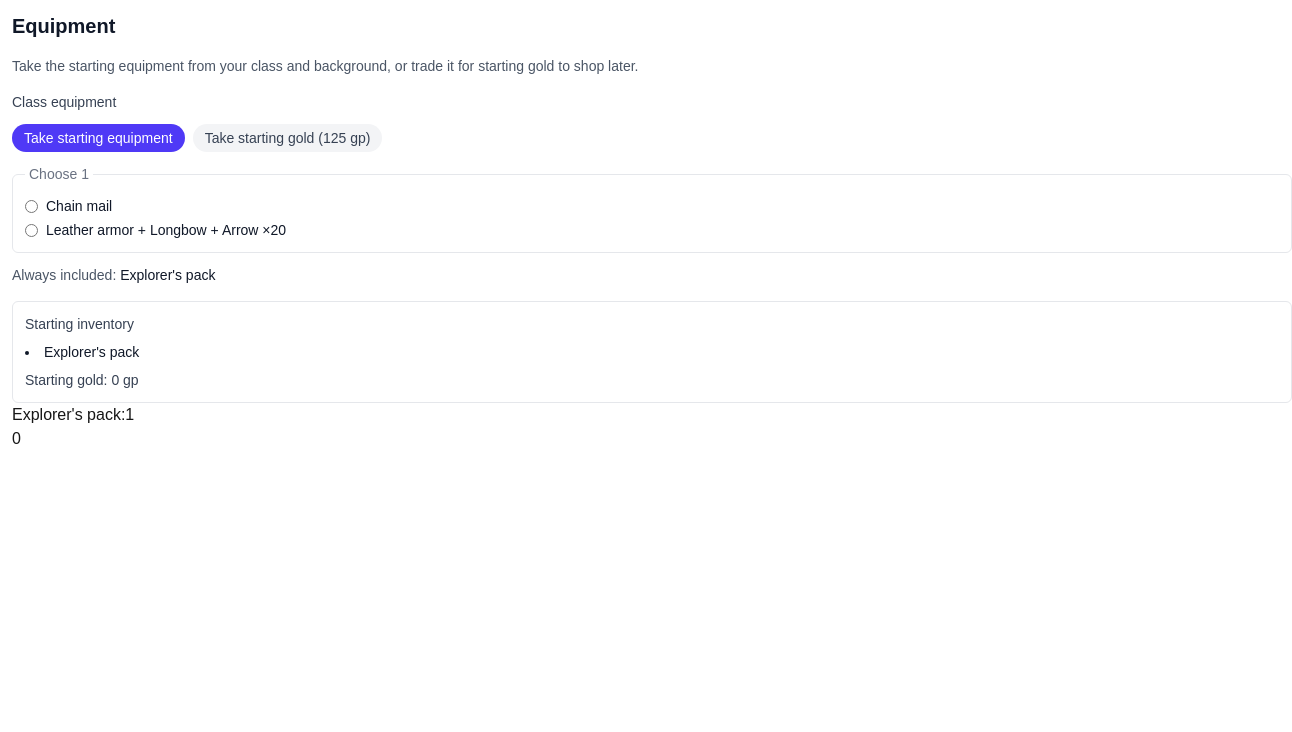
it: EquipmentStep — starting equipment vs gold › resolving a choice group adds the picked bundle to inventory
Expected: the radio button labelled "Chain mail" is shown, left=25, top=200, right=38, bottom=212
Click the radio button labelled "Leather armor + Longbow + Arrow ×20".
click(32, 230)  # box left=25, top=224, right=38, bottom=236
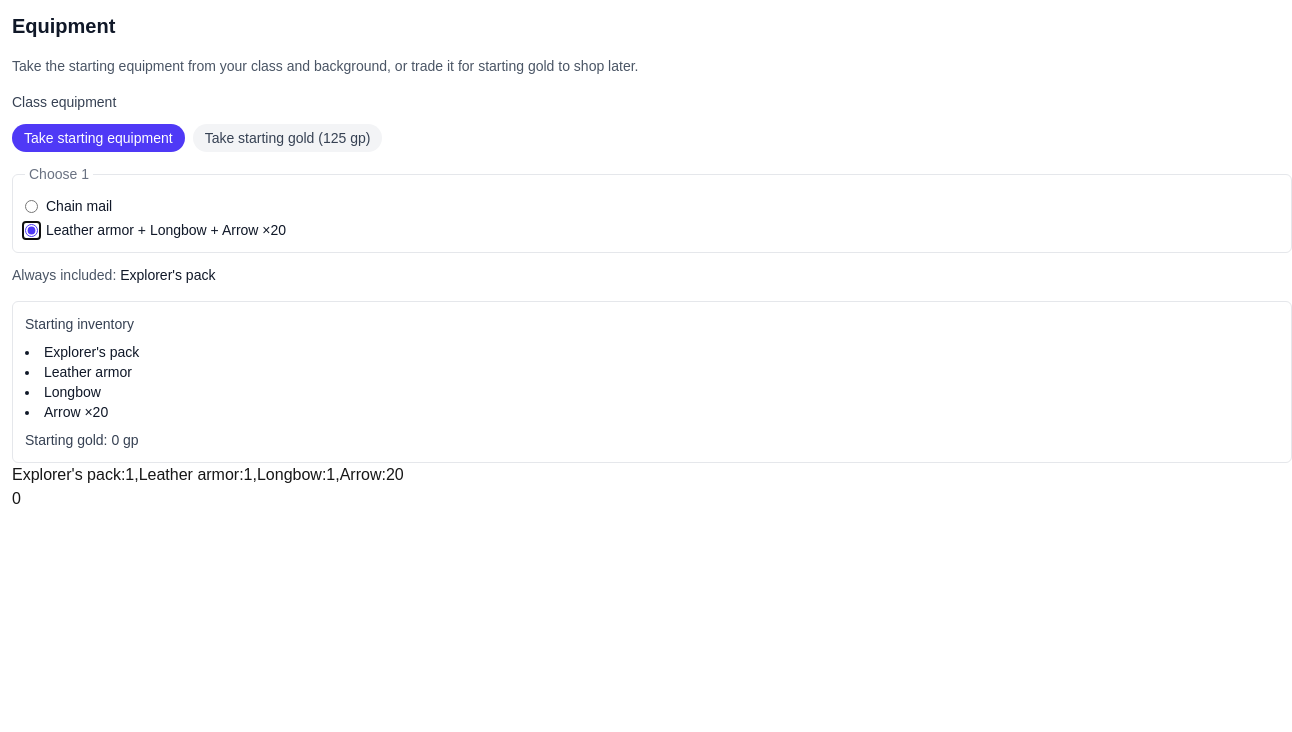
Expected: the text with test id "draft-inventory" reads "Explorer's pack:1,Leather armor:1,Longbow:1,Arrow:20", left=12, top=466, right=404, bottom=483
// Choose-1 group: switching the pick replaces the previous bundle.
Click the radio button labelled "Chain mail".
click(32, 206)  # box left=25, top=200, right=38, bottom=212
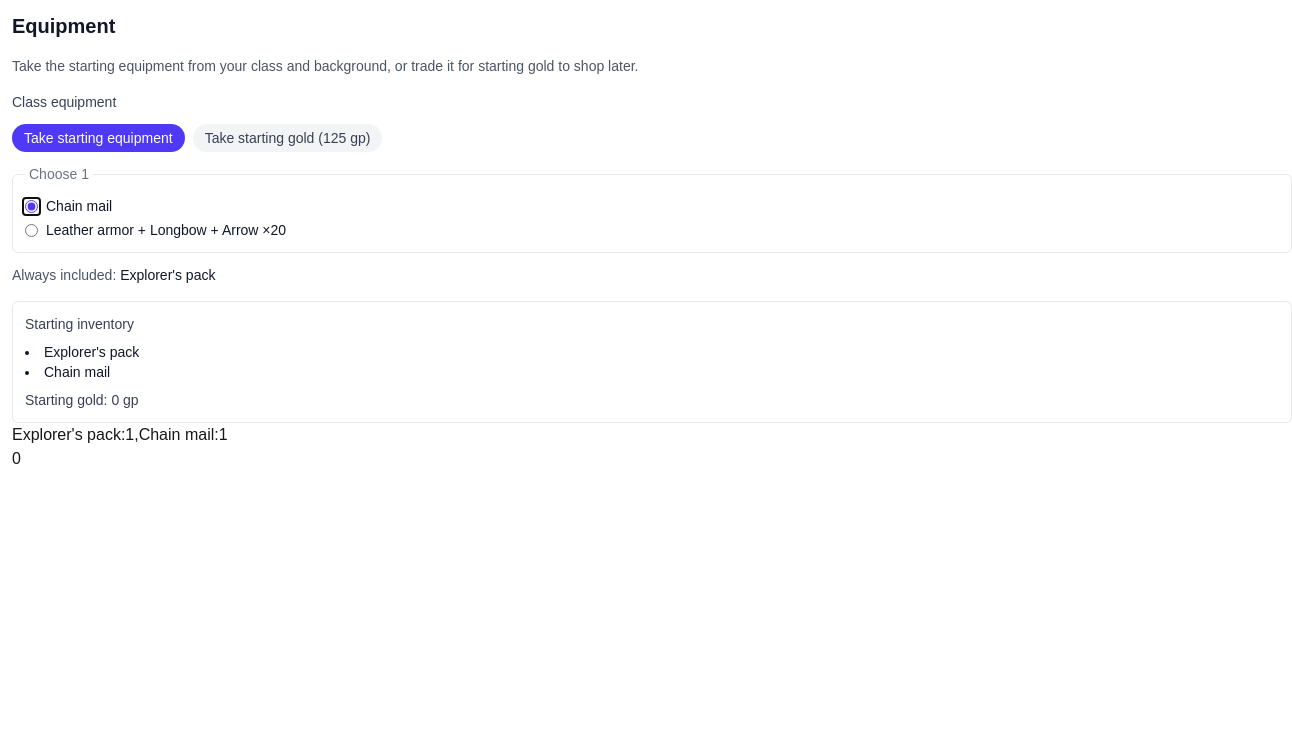
Expected: the text with test id "draft-inventory" reads "Explorer's pack:1,Chain mail:1", left=12, top=426, right=228, bottom=443
